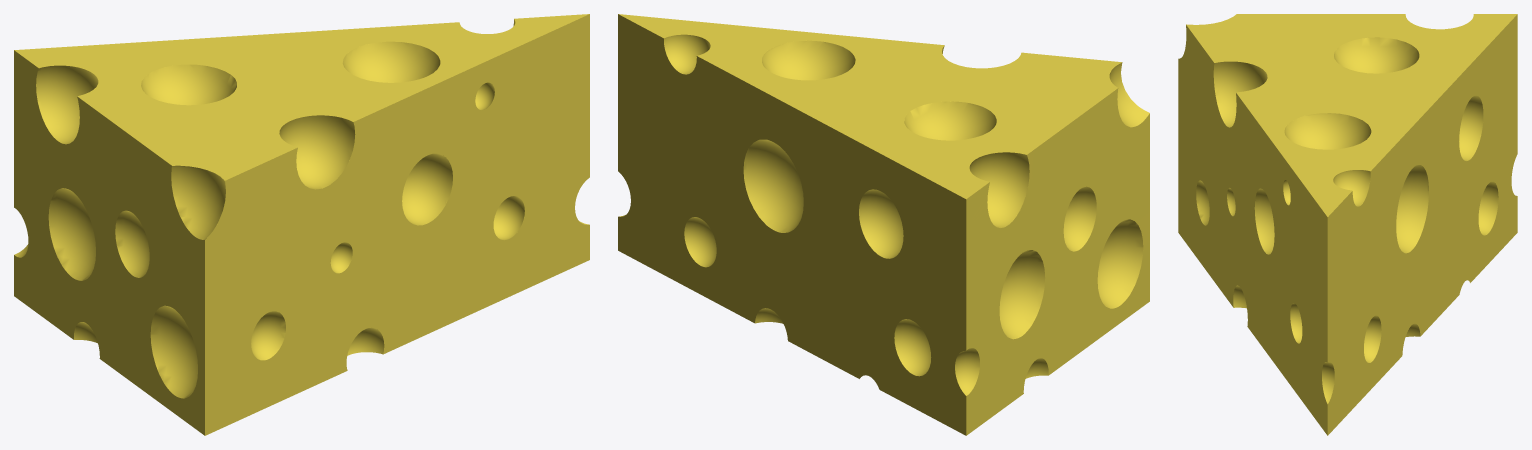
File: SER.fbx
The picture shows the model from 3 angles, left to right: view 1: azimuth 30°, elevation 25°; view 2: azimuth 150°, elevation 25°; view 3: azimuth 270°, elevation 25°; orthographic projection. The views are drawn at different scales.
Visible parts, largest first — view 1: Plane.008; view 2: Plane.008; view 3: Plane.008.
Boxes of the visible parts, x1,y1,x2,y2 form: Plane.008: (14,14,589,435); Plane.008: (618,14,1149,435); Plane.008: (1178,14,1517,435).
Bounding box in the file's own units: 399 × 200 × 281.
